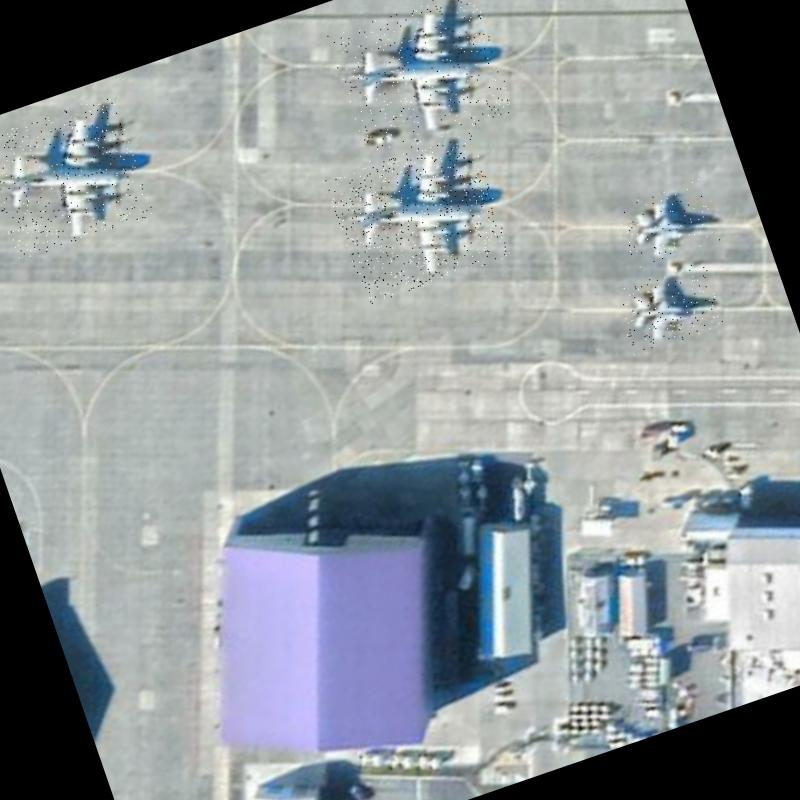A16: (612, 260, 726, 356), (614, 178, 720, 269)
A9: (325, 131, 514, 306), (326, 0, 515, 162), (0, 93, 154, 262)
